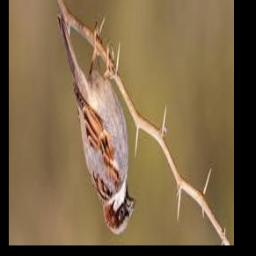Sparrow: (57, 12, 135, 236)
